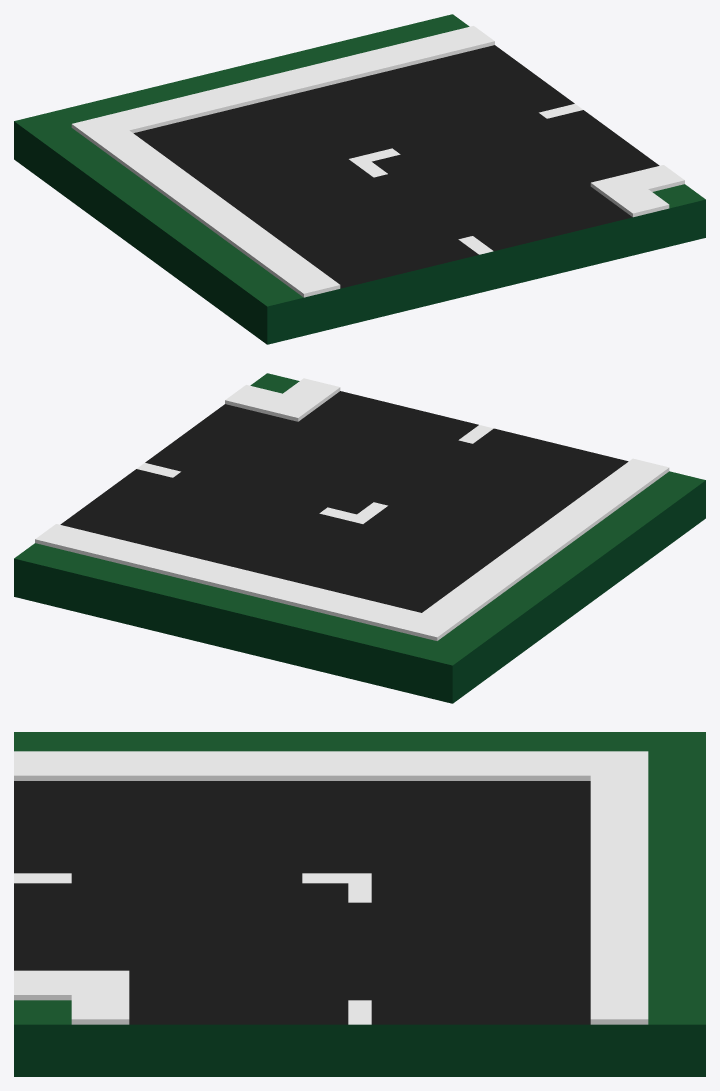
Rendered from L intersection.glb.
3 views of the same model, one above another, from view 1: azimuth 30°, elevation 25°; view 2: azimuth 150°, elevation 25°; view 3: azimuth 270°, elevation 25° (orthographic). The views are drawn at different scales.
Parts seen in each view (by area): view 1: l-intersection; view 2: l-intersection; view 3: l-intersection.
Boxes of the visible parts, x1,y1,x2,y2 form: l-intersection: (14,14,705,344); l-intersection: (14,373,705,703); l-intersection: (14,732,705,1076).
Size of the model in its own units: 12 by 1.1 by 12.
Materials: 1 (1 with a texture image).
